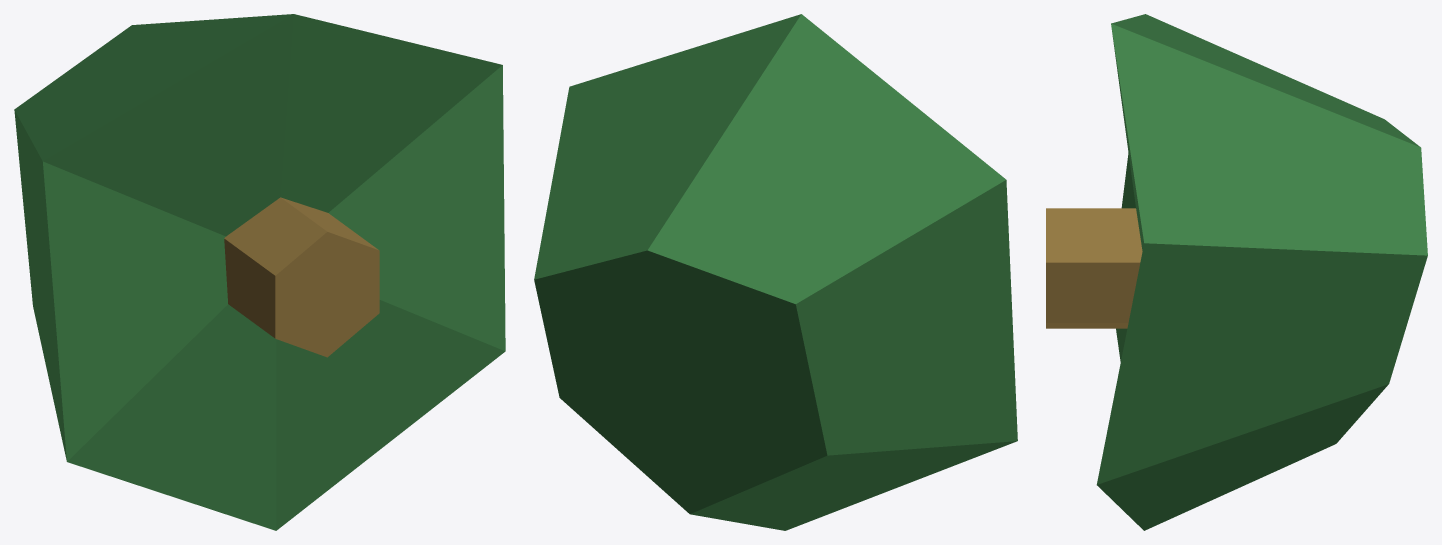
The model's file is firDestroy4.fbx.
The picture shows the model from 3 angles, left to right: view 1: azimuth 30°, elevation 25°; view 2: azimuth 150°, elevation 25°; view 3: azimuth 270°, elevation 25°; orthographic projection. The views are drawn at different scales.
Visible parts, largest first — view 1: Цилиндр; view 2: Цилиндр; view 3: Цилиндр.
Part boxes in pixels (x1=…): Цилиндр: x1=14, y1=14, x2=505, y2=530; Цилиндр: x1=534, y1=14, x2=1017, y2=530; Цилиндр: x1=1046, y1=14, x2=1427, y2=530.
Size of the model in its own units: 229 by 253 by 172.
